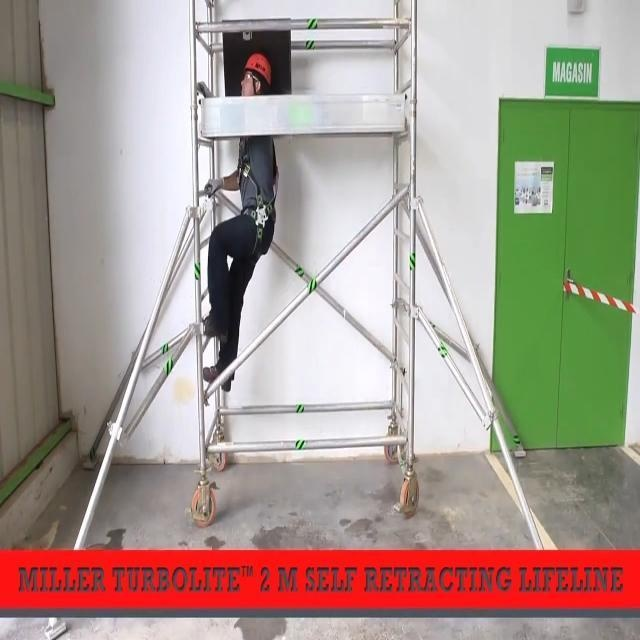Arnes_seguridad: (237, 135, 277, 260)
